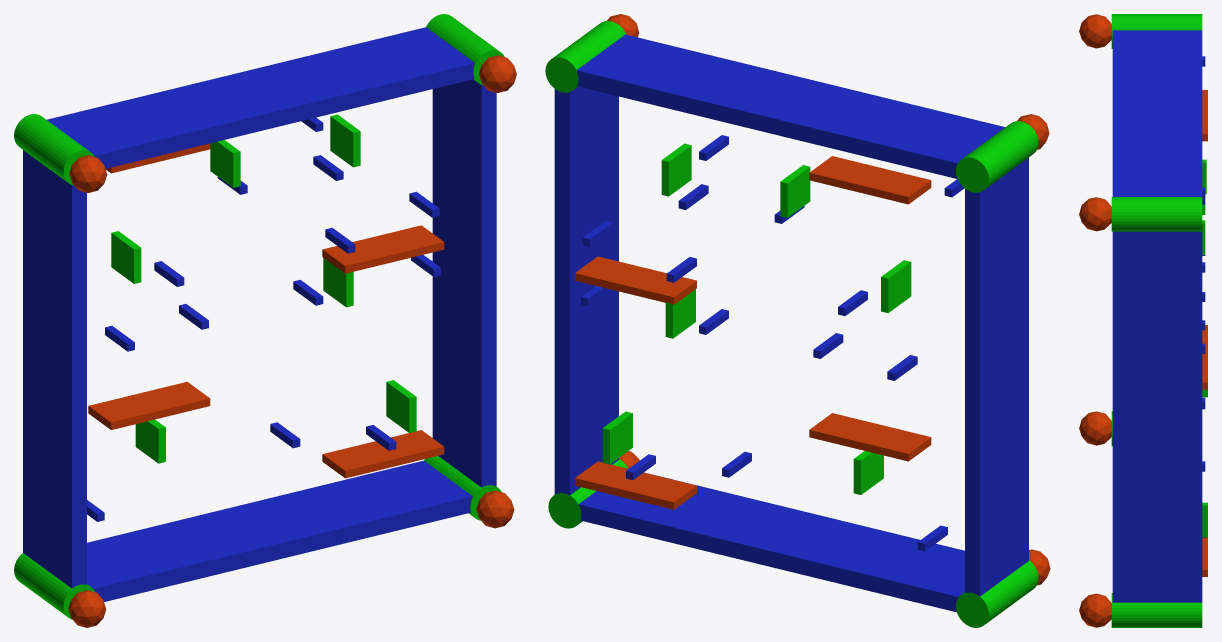
File: velmobil_gym_mini_obstacled.obj
The picture shows the model from 3 angles, left to right: view 1: azimuth 30°, elevation 25°; view 2: azimuth 150°, elevation 25°; view 3: azimuth 270°, elevation 25°; orthographic projection. The views are drawn at different scales.
Visible parts, largest first — view 1: Cube.003, Cube.004, Cube.001, Cube.002, Cube.011, Cube.016, Cube.013, Cylinder.002, Cylinder.001, Cylinder.003, Cube.006, Cube.010 (+10 smaller); view 2: Cube.003, Cube.001, Cube.004, Cube.002, Cylinder.002, Cube.011, Cube.012, Cube.016, Cube.013, Cylinder.001, Cylinder.003, Cube (+6 smaller); view 3: Cube.004, Cube.001, Cylinder.003, Cylinder, Cylinder.002, Icosphere, Icosphere.003, Icosphere.001, Icosphere.002, Cube.012, Cube.016, Cube.013 (+1 smaller).
Part boxes in pixels (left/top/right/bottom): Cube.003: left=23, top=150, right=86, bottom=588; Cube.004: left=432, top=79, right=496, bottom=487; Cube.001: left=46, top=27, right=474, bottom=168; Cube.002: left=87, top=460, right=472, bottom=601; Cube.011: left=88, top=381, right=210, bottom=429; Cube.016: left=322, top=225, right=444, bottom=273; Cube.013: left=322, top=430, right=444, bottom=478; Cylinder.002: left=14, top=114, right=94, bottom=185; Cylinder.001: left=14, top=553, right=94, bottom=619; Cylinder.003: left=426, top=14, right=504, bottom=85; Cube.006: left=330, top=114, right=360, bottom=167; Cube.010: left=386, top=380, right=416, bottom=432; Cube.003: left=965, top=157, right=1028, bottom=596; Cube.001: left=576, top=34, right=1005, bottom=178; Cube.004: left=554, top=86, right=618, bottom=495; Cube.002: left=578, top=468, right=964, bottom=612; Cylinder.002: left=956, top=121, right=1038, bottom=192; Cube.011: left=809, top=413, right=931, bottom=461; Cube.012: left=809, top=156, right=931, bottom=204; Cube.016: left=575, top=256, right=696, bottom=304; Cube.013: left=575, top=461, right=696, bottom=509; Cylinder.001: left=956, top=560, right=1038, bottom=627; Cylinder.003: left=545, top=21, right=625, bottom=92; Cube: left=881, top=260, right=911, bottom=312; Cube.004: left=1112, top=231, right=1202, bottom=602; Cube.001: left=1112, top=30, right=1202, bottom=196; Cylinder.003: left=1111, top=197, right=1202, bottom=231; Cylinder: left=1111, top=593, right=1202, bottom=627; Cylinder.002: left=1111, top=14, right=1202, bottom=48; Icosphere: left=1079, top=14, right=1111, bottom=48; Icosphere.003: left=1079, top=411, right=1111, bottom=445; Icosphere.001: left=1079, top=197, right=1111, bottom=231; Icosphere.002: left=1079, top=593, right=1111, bottom=627; Cube.012: left=1202, top=90, right=1207, bottom=141; Cube.016: left=1202, top=338, right=1207, bottom=389; Cube.013: left=1202, top=537, right=1207, bottom=576.
Size of the model in its own units: 26.85 by 27.16 by 7.39.
